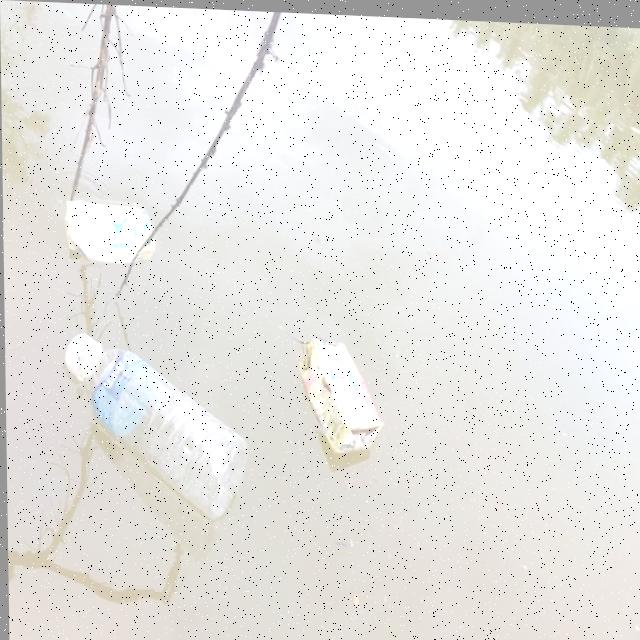paper: (285, 308, 379, 479), (52, 184, 165, 265)
waterbottle: (65, 312, 254, 533)
